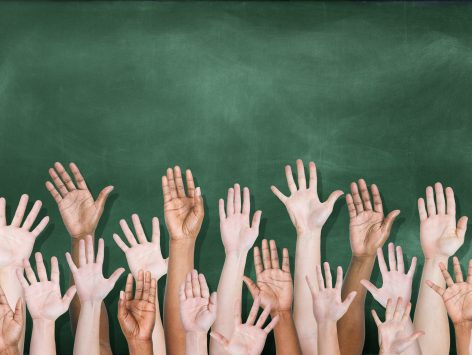hand: (270, 158, 344, 226), (46, 161, 114, 231), (210, 296, 279, 354), (16, 253, 78, 316), (345, 179, 399, 250), (417, 182, 467, 256), (113, 213, 169, 277), (361, 242, 417, 305), (65, 235, 124, 294), (242, 240, 293, 308), (1, 194, 49, 265), (161, 164, 204, 237), (305, 261, 356, 321), (426, 257, 472, 321), (371, 297, 425, 351), (218, 183, 260, 248), (119, 271, 156, 338), (179, 268, 217, 330)
